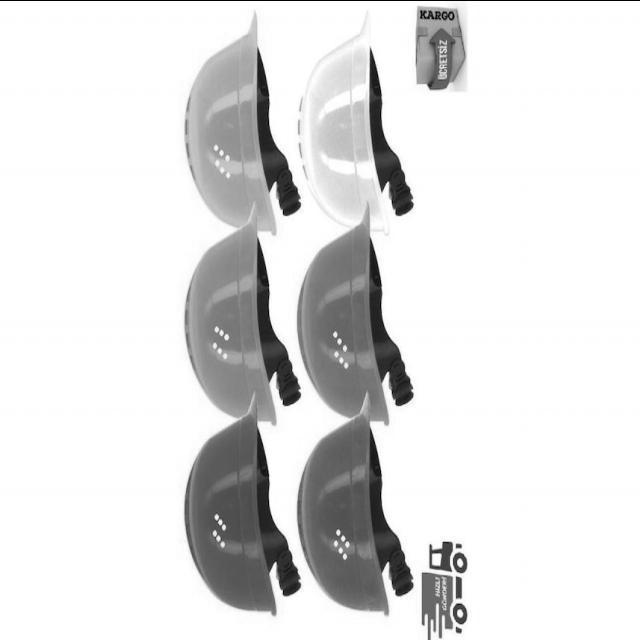safety_helmet: (185, 13, 299, 228), (301, 14, 414, 220), (186, 224, 297, 418)
